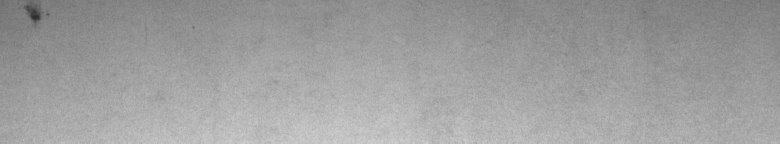fi: (19, 4, 50, 32)
